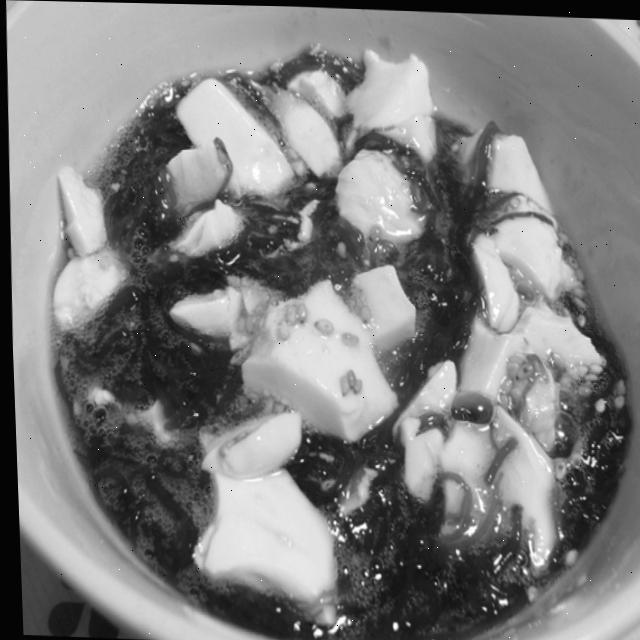蔬菜料理: (38, 38, 632, 630)
